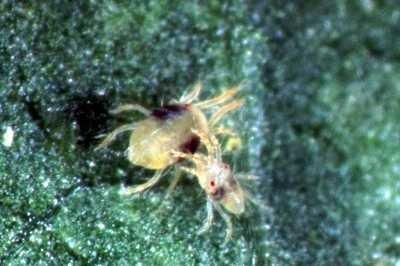Mites: (95, 61, 242, 158), (188, 143, 255, 238)
